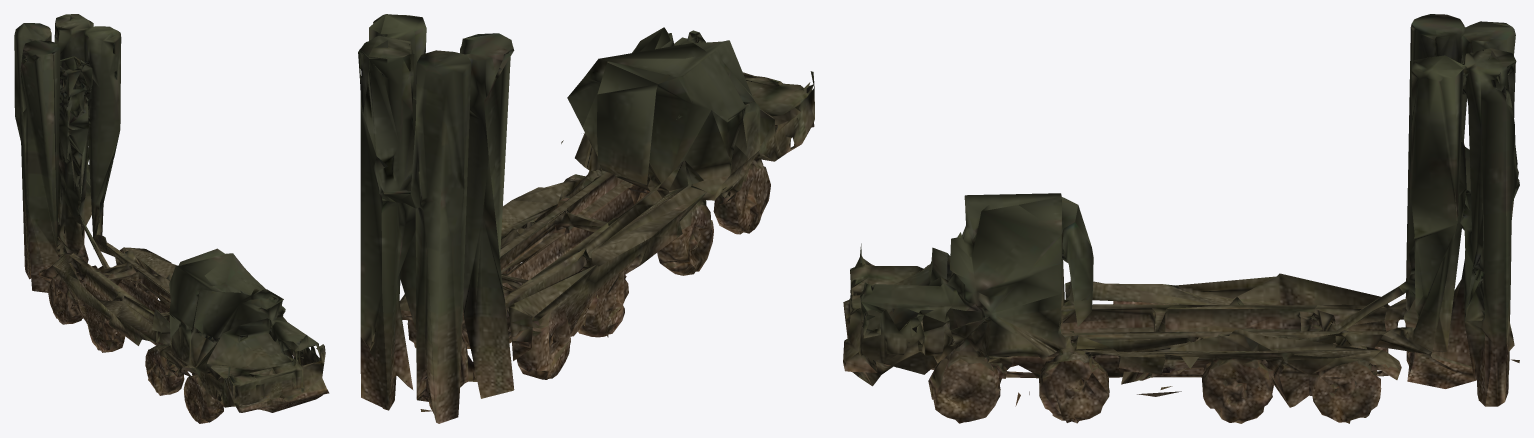
The model's file is sam_s300.glb.
The picture shows the model from 3 angles, left to right: view 1: azimuth 30°, elevation 25°; view 2: azimuth 150°, elevation 25°; view 3: azimuth 270°, elevation 25°; orthographic projection. The views are drawn at different scales.
Visible parts, largest first — view 1: S-300__Favorit___SLOVAK_VARIANT; view 2: S-300__Favorit___SLOVAK_VARIANT; view 3: S-300__Favorit___SLOVAK_VARIANT.
Part boxes in pixels (x1,y1,x2,y2): S-300__Favorit___SLOVAK_VARIANT: (14, 14, 329, 423); S-300__Favorit___SLOVAK_VARIANT: (358, 14, 814, 423); S-300__Favorit___SLOVAK_VARIANT: (843, 14, 1519, 423).
Size of the model in its own units: 2.69 by 6.4 by 11.
1 material, 1 textured.
